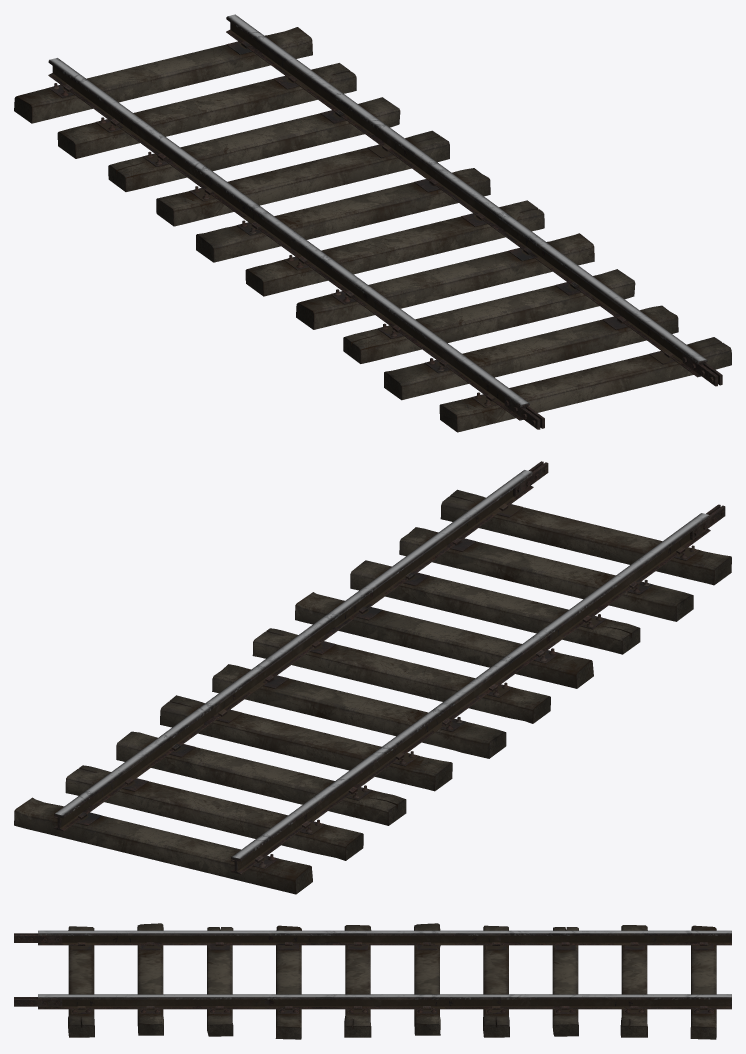
Rendered from railwayTrack.glb.
3 views of the same model, one above another, from view 1: azimuth 30°, elevation 25°; view 2: azimuth 150°, elevation 25°; view 3: azimuth 270°, elevation 25° (orthographic). The views are drawn at different scales.
Visible parts, largest first — view 1: Railway_segment; view 2: Railway_segment; view 3: Railway_segment.
Boxes of the visible parts, <box> form: Railway_segment: <box>14,14,731,432</box>; Railway_segment: <box>14,461,731,894</box>; Railway_segment: <box>14,923,731,1039</box>.
Size of the model in its own units: 2.46 by 0.264 by 7.2.
1 material, 1 textured.
